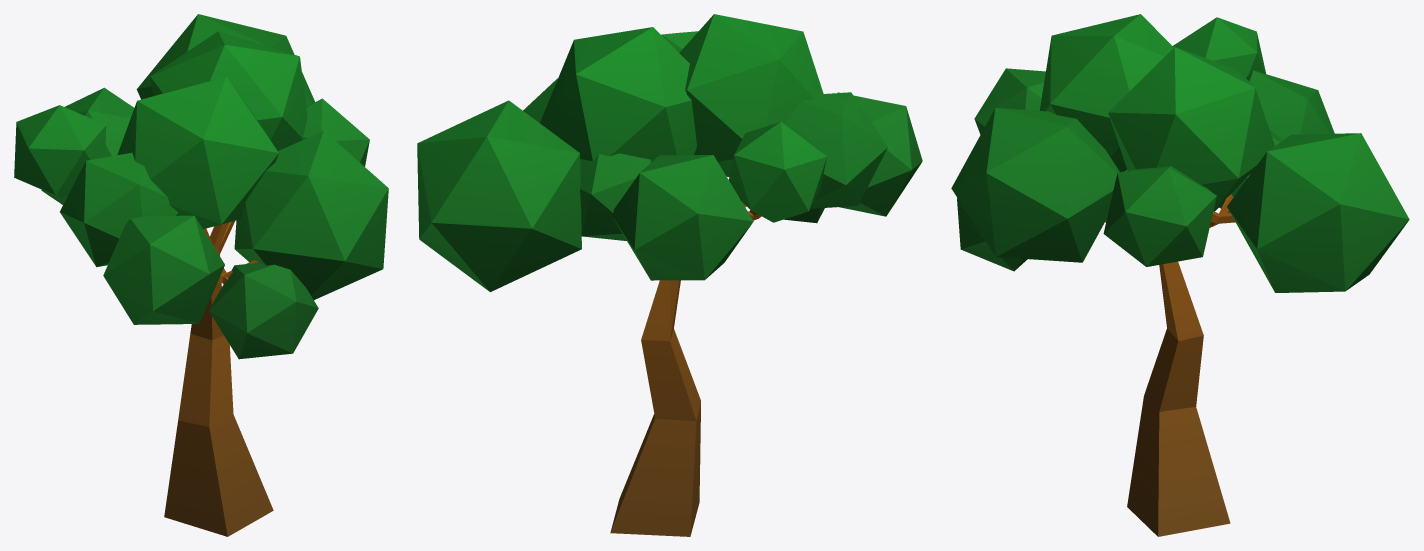
Rendered from Tree_2.fbx.
3 renders of one model, left to right at view 1: azimuth 30°, elevation 25°; view 2: azimuth 150°, elevation 25°; view 3: azimuth 270°, elevation 25°, orthographic. The views are drawn at different scales.
Parts seen in each view (by area): view 1: Tree_2; view 2: Tree_2; view 3: Tree_2.
Part boxes in pixels (x1,y1,x2,y2): Tree_2: (14,14,388,536); Tree_2: (417,14,922,536); Tree_2: (951,14,1409,536).
Bounding box in the file's own units: 576 × 785 × 694.
